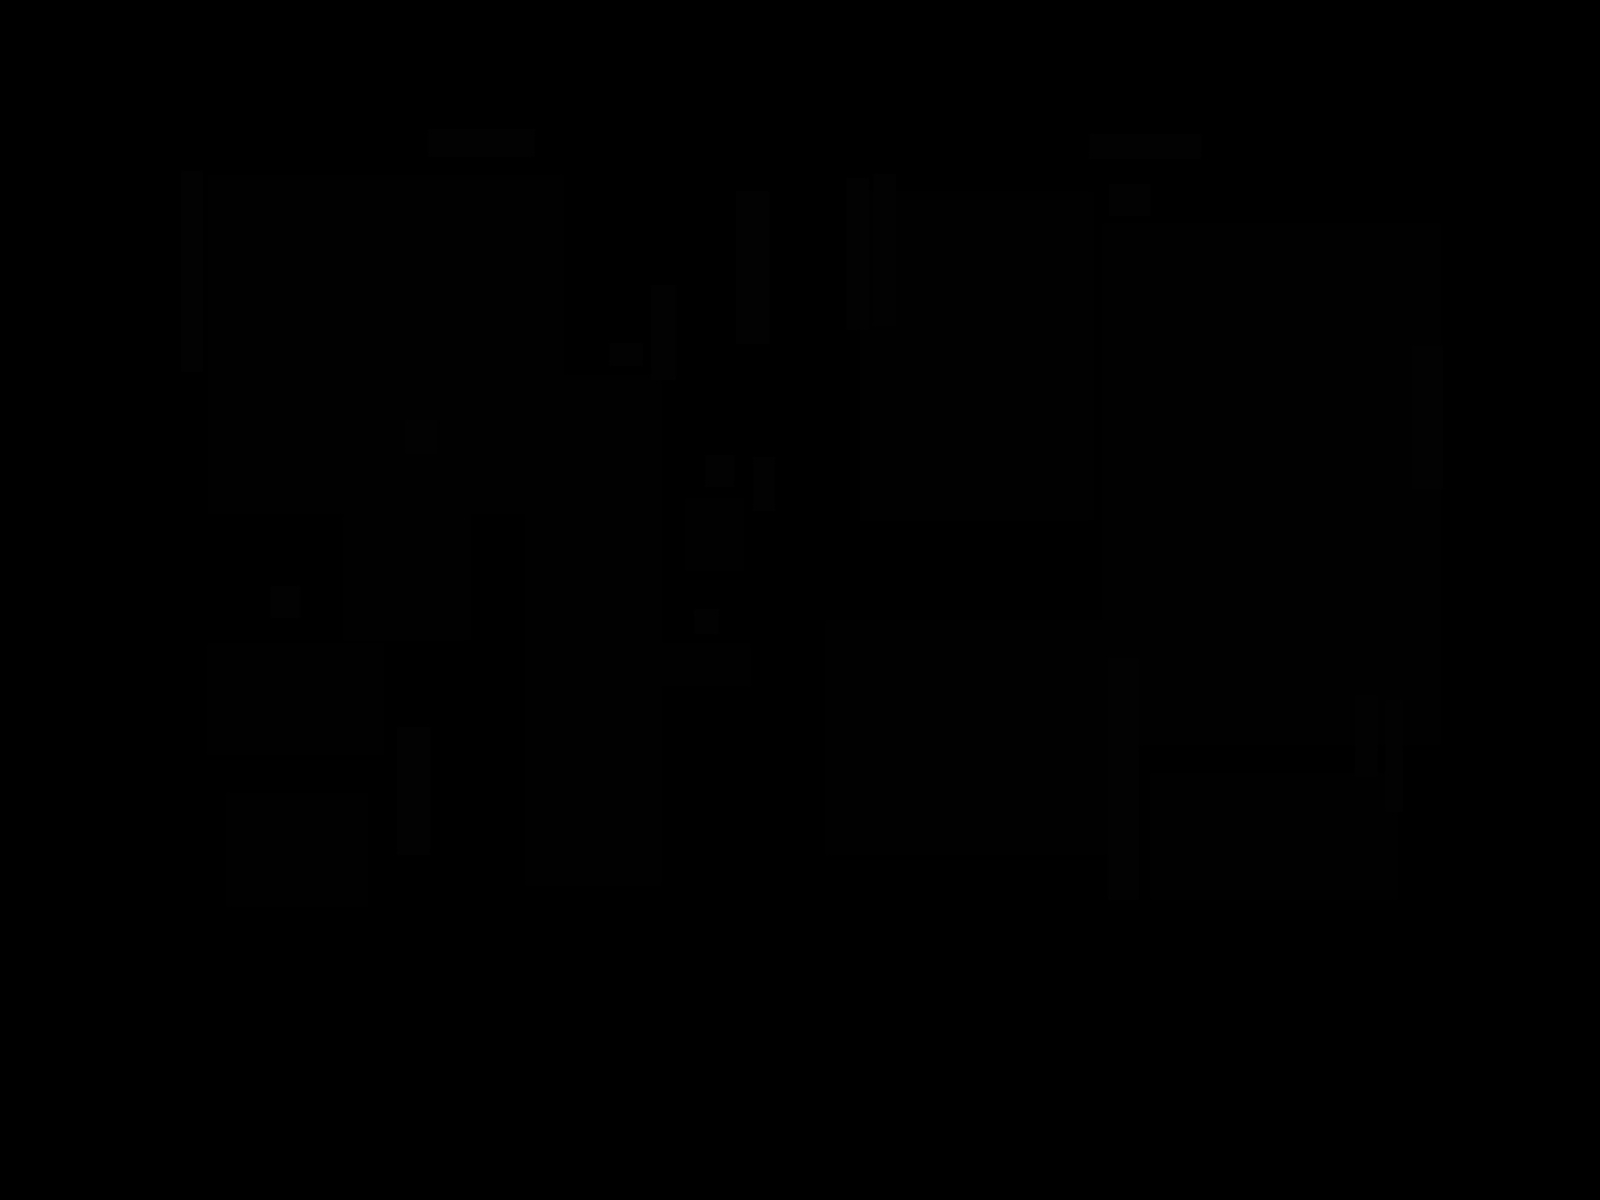1_overall: (87, 53, 1533, 1001)
3_typography: (1107, 658, 1139, 900), (736, 192, 769, 344), (1412, 345, 1443, 489), (181, 171, 203, 372), (397, 727, 430, 855), (847, 178, 869, 330), (873, 174, 896, 326), (428, 129, 535, 158), (1089, 134, 1201, 159), (651, 285, 677, 379), (1385, 700, 1403, 812), (1356, 695, 1378, 776), (753, 458, 775, 511), (404, 420, 437, 454), (271, 586, 300, 618), (706, 455, 734, 487), (609, 343, 643, 366), (694, 609, 719, 634)
4_illustration: (1102, 223, 1441, 745), (208, 175, 564, 514), (860, 192, 1094, 521), (825, 620, 1123, 855), (525, 376, 661, 886), (1150, 773, 1398, 900), (343, 476, 471, 642), (207, 643, 384, 755), (226, 793, 368, 908), (685, 498, 745, 571), (659, 643, 751, 686)
5_stamp: (1109, 184, 1150, 216)
